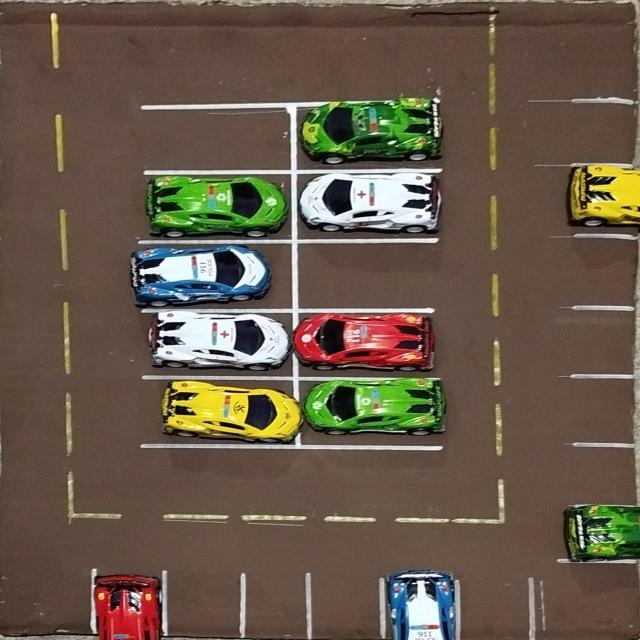libre: (142, 105, 292, 172), (296, 241, 437, 310), (0, 569, 94, 640), (162, 570, 244, 640), (308, 571, 385, 640), (571, 234, 640, 306), (456, 576, 532, 640), (570, 306, 640, 375), (572, 375, 640, 445), (570, 100, 640, 164), (244, 571, 307, 640), (572, 444, 640, 506)
no_estacionarse: (538, 562, 639, 640)
ocupado: (141, 172, 294, 242), (138, 242, 295, 310), (145, 378, 298, 446), (142, 310, 295, 378), (294, 308, 442, 378), (292, 101, 442, 169), (293, 170, 441, 238), (298, 377, 444, 445), (93, 567, 165, 640), (568, 162, 640, 235), (387, 568, 458, 640), (563, 504, 640, 562)
